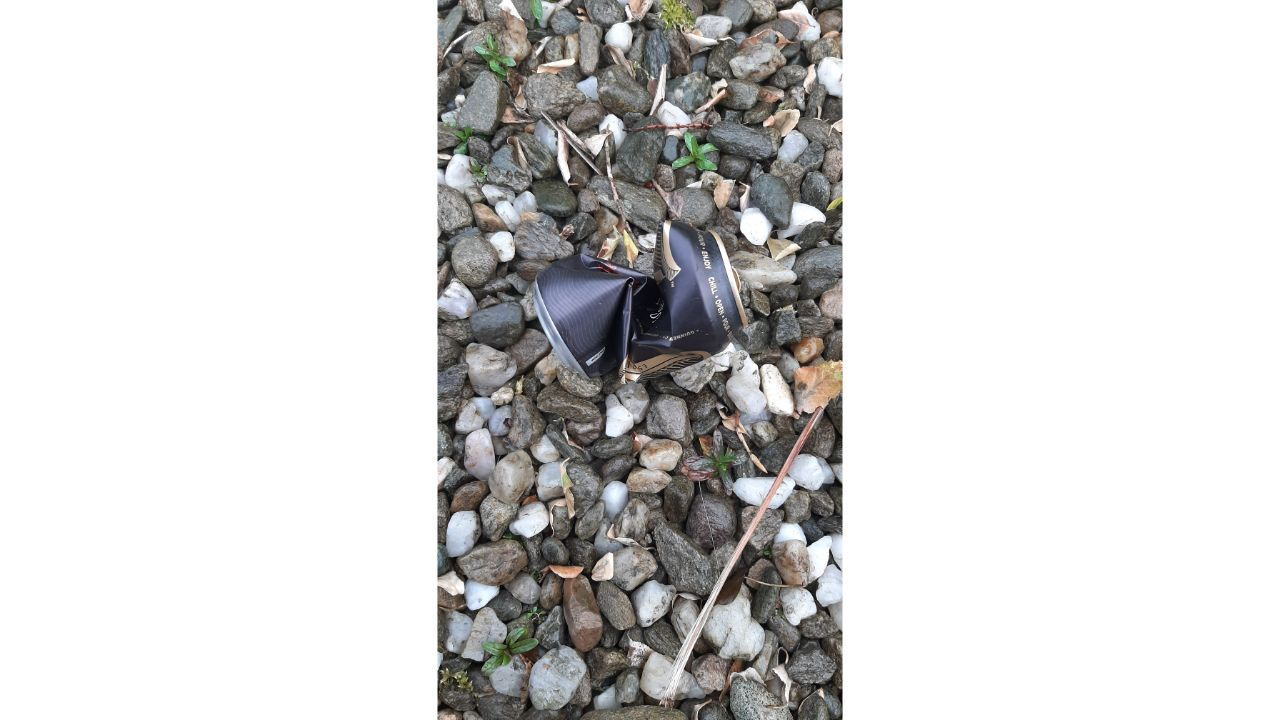Can: (534, 220, 751, 382)
